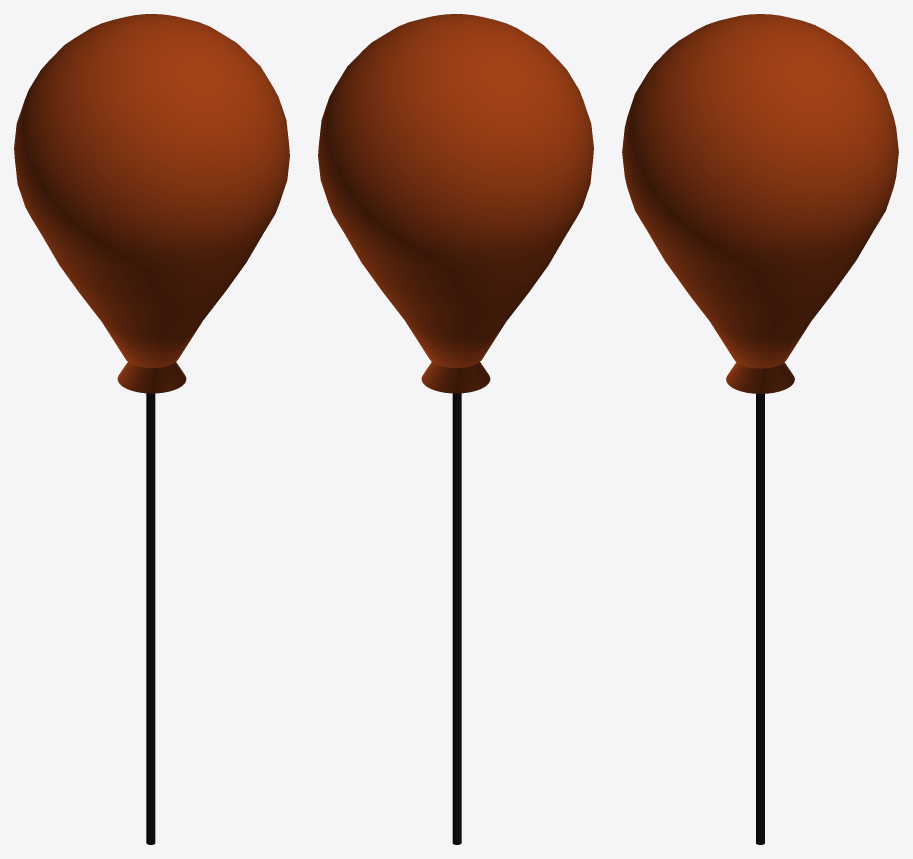
Rendered from BallonBronze.obj.
3 renders of one model, left to right at view 1: azimuth 30°, elevation 25°; view 2: azimuth 150°, elevation 25°; view 3: azimuth 270°, elevation 25°, orthographic.
Parts seen in each view (by area): view 1: Ballon; view 2: Ballon; view 3: Ballon.
Part boxes in pixels (x1,y1,x2,y2): Ballon: (14,14,289,844); Ballon: (318,14,593,844); Ballon: (622,14,898,844).
Bounding box in the file's own units: 2 × 6.51 × 2.
